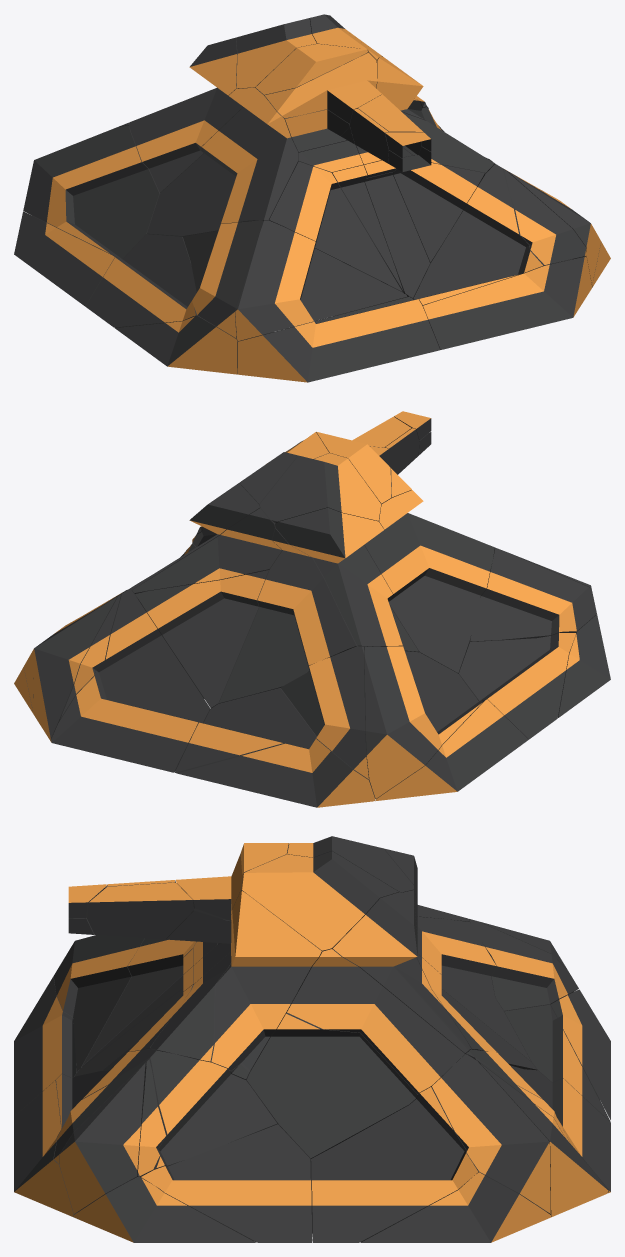
The model's file is EnemyBotFractured.fbx.
3 renders of one model, top to bottom at view 1: azimuth 30°, elevation 25°; view 2: azimuth 150°, elevation 25°; view 3: azimuth 270°, elevation 25°, orthographic. The views are drawn at different scales.
Parts seen in each view (by area): view 1: EnemyBot_cell, EnemyBot_cell.010, EnemyBot_cell.009, EnemyBot_cell.048, EnemyBot_cell.001, EnemyBot_cell.037, EnemyBot_cell.026, EnemyBot_cell.022, EnemyBot_cell.045, EnemyBot_cell.005, EnemyBot_cell.023, EnemyBot_cell.024 (+17 smaller); view 2: EnemyBot_cell.011, EnemyBot_cell, EnemyBot_cell.010, EnemyBot_cell.041, EnemyBot_cell.014, EnemyBot_cell.026, EnemyBot_cell.022, EnemyBot_cell.005, EnemyBot_cell.017, EnemyBot_cell.021, EnemyBot_cell.033, EnemyBot_cell.023 (+13 smaller); view 3: EnemyBot_cell.006, EnemyBot_cell.002, EnemyBot_cell.043, EnemyBot_cell.018, EnemyBot_cell.015, EnemyBot_cell.049, EnemyBot_cell.047, EnemyBot_cell.008, EnemyBot_cell.028, EnemyBot_cell.020, EnemyBot_cell.048, EnemyBot_cell.031 (+28 smaller).
Boxes of the visible parts, x1,y1,x2,y2 form: EnemyBot_cell: (147, 87, 298, 236); EnemyBot_cell.010: (23, 125, 160, 259); EnemyBot_cell.009: (237, 296, 439, 382); EnemyBot_cell.048: (235, 220, 407, 341); EnemyBot_cell.001: (422, 256, 591, 349); EnemyBot_cell.037: (413, 164, 572, 305); EnemyBot_cell.026: (129, 37, 242, 192); EnemyBot_cell.022: (85, 234, 212, 327); EnemyBot_cell.045: (269, 161, 402, 313); EnemyBot_cell.005: (183, 220, 270, 340); EnemyBot_cell.023: (14, 211, 116, 306); EnemyBot_cell.024: (393, 163, 484, 277); EnemyBot_cell.011: (50, 589, 210, 772); EnemyBot_cell: (364, 490, 494, 673); EnemyBot_cell.010: (364, 646, 482, 798); EnemyBot_cell.041: (219, 528, 357, 703); EnemyBot_cell.014: (135, 570, 269, 708); EnemyBot_cell.026: (275, 507, 418, 652); EnemyBot_cell.022: (458, 633, 575, 739); EnemyBot_cell.005: (469, 548, 596, 641); EnemyBot_cell.017: (177, 738, 375, 807); EnemyBot_cell.021: (280, 646, 369, 779); EnemyBot_cell.033: (175, 688, 375, 798); EnemyBot_cell.023: (375, 699, 528, 801); EnemyBot_cell.006: (310, 1087, 481, 1242); EnemyBot_cell.002: (246, 992, 418, 1161); EnemyBot_cell.043: (139, 1124, 312, 1242); EnemyBot_cell.018: (211, 891, 321, 1070); EnemyBot_cell.015: (287, 949, 464, 1094); EnemyBot_cell.049: (432, 1054, 550, 1213); EnemyBot_cell.047: (137, 1050, 277, 1176); EnemyBot_cell.008: (241, 851, 398, 952); EnemyBot_cell.028: (59, 1063, 145, 1213); EnemyBot_cell.020: (361, 1172, 551, 1242); EnemyBot_cell.048: (53, 935, 144, 1071); EnemyBot_cell.031: (74, 1177, 256, 1242).
Bounding box in the file's own units: 200 × 99.48 × 200.
